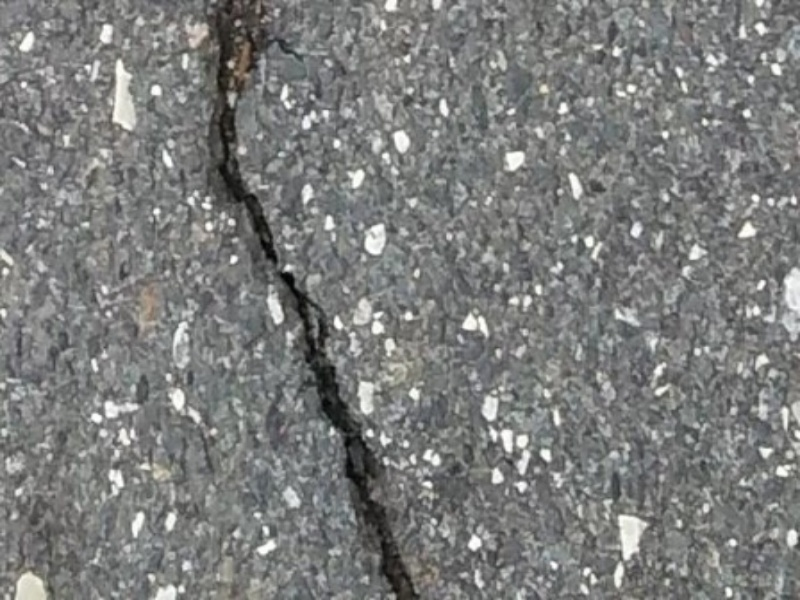crack: (166, 15, 418, 585)
